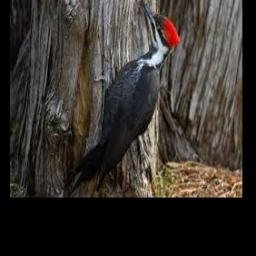Woodpecker: (68, 0, 182, 195)
